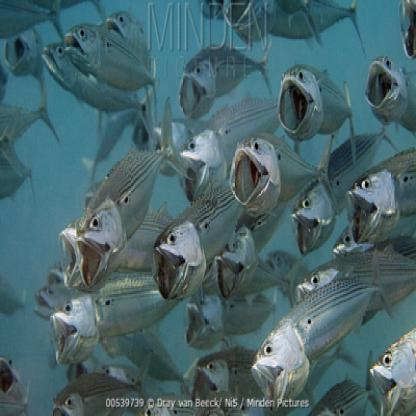tuna: (73, 95, 195, 290), (252, 247, 394, 409), (151, 187, 241, 315), (63, 20, 166, 121), (226, 130, 335, 219), (277, 59, 360, 164), (179, 37, 274, 120)
